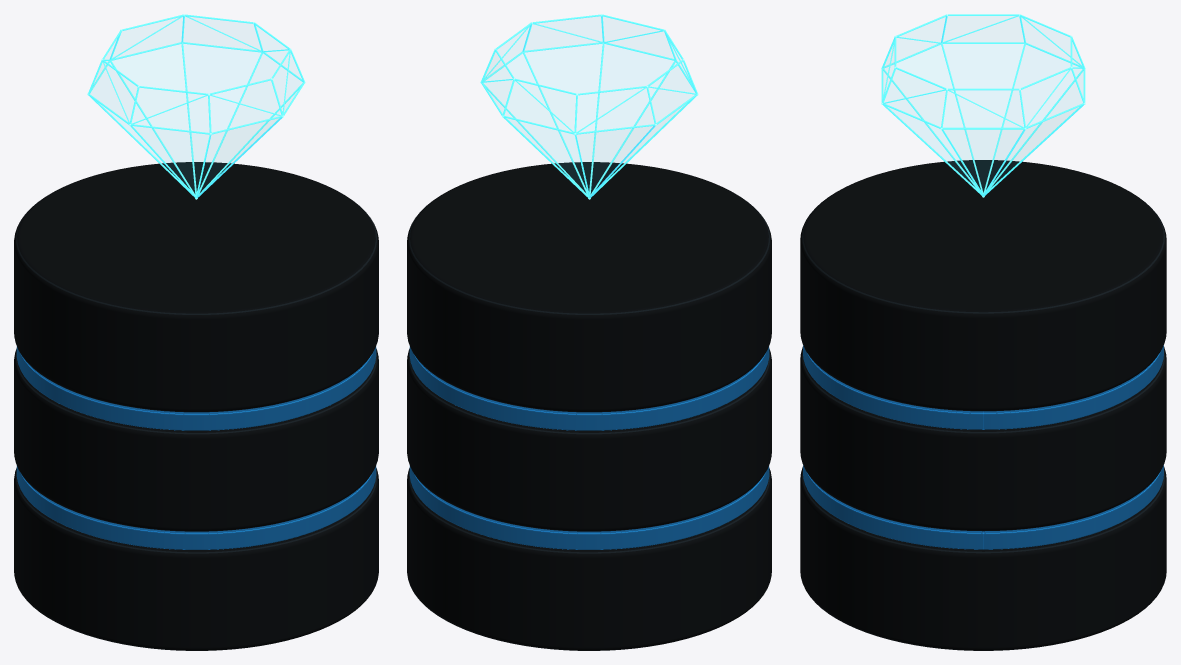
The model's file is sqlpage-database-bbca200908a1.glb.
3 renders of one model, left to right at view 1: azimuth 30°, elevation 25°; view 2: azimuth 150°, elevation 25°; view 3: azimuth 270°, elevation 25°, orthographic.
Parts seen in each view (by area): view 1: Database Top Satin Cylinder, Database Middle Satin Cylinder, Database Bottom Satin Cylinder, Database Upper Cyan Separator, Database Lower Cyan Separator, Diamond Cylindrical Wire Edges; view 2: Database Top Satin Cylinder, Database Middle Satin Cylinder, Database Bottom Satin Cylinder, Database Upper Cyan Separator, Database Lower Cyan Separator, Diamond Cylindrical Wire Edges; view 3: Database Top Satin Cylinder, Database Middle Satin Cylinder, Database Bottom Satin Cylinder, Database Lower Cyan Separator, Database Upper Cyan Separator, Diamond Cylindrical Wire Edges.
Part boxes in pixels (x1,y1,x2,y2): Database Top Satin Cylinder: (14,162,378,412); Database Middle Satin Cylinder: (14,347,378,531); Database Bottom Satin Cylinder: (14,467,378,650); Database Upper Cyan Separator: (16,346,376,430); Database Lower Cyan Separator: (16,466,376,549); Diamond Cylindrical Wire Edges: (88,14,304,198); Database Top Satin Cylinder: (407,162,771,412); Database Middle Satin Cylinder: (407,347,771,531); Database Bottom Satin Cylinder: (407,467,771,650); Database Upper Cyan Separator: (409,346,769,430); Database Lower Cyan Separator: (409,466,769,549); Diamond Cylindrical Wire Edges: (481,14,697,198); Database Top Satin Cylinder: (800,160,1166,411); Database Middle Satin Cylinder: (800,346,1166,531); Database Bottom Satin Cylinder: (800,466,1166,650); Database Lower Cyan Separator: (803,465,1163,549); Database Upper Cyan Separator: (803,345,1163,429); Diamond Cylindrical Wire Edges: (881,14,1085,196).
Size of the model in its own units: 2.08 by 3.28 by 2.08.
